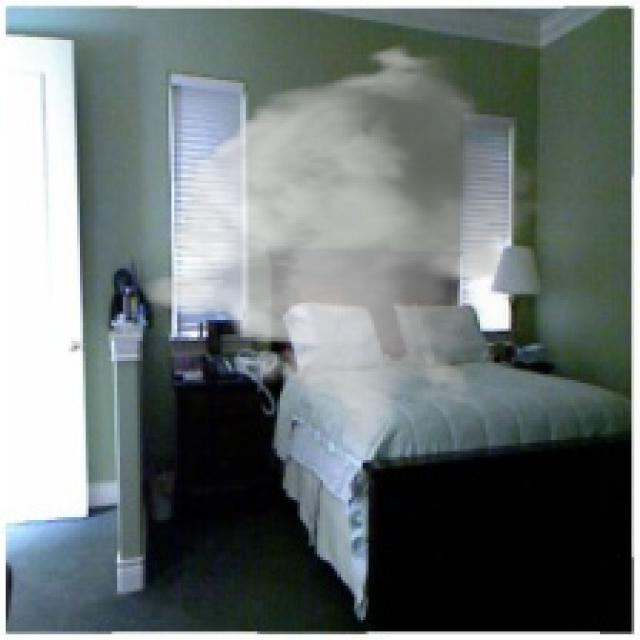smoke: (137, 43, 549, 446)
